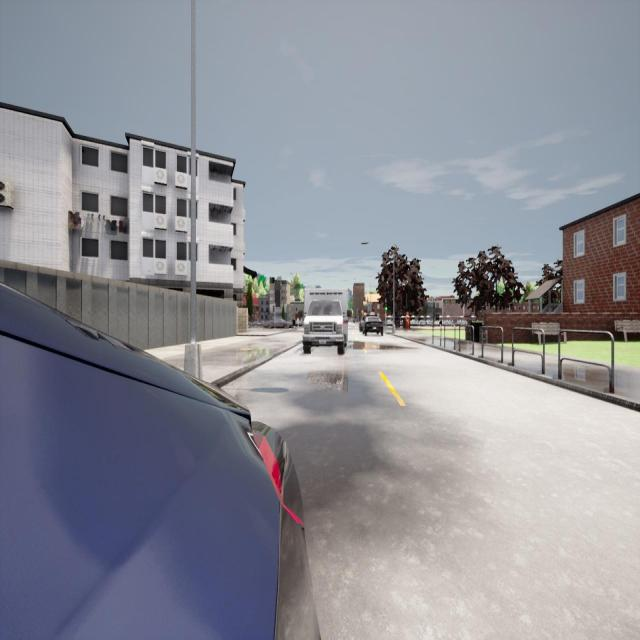Pedestrian: (404, 311, 411, 331)
Vehicle: (0, 283, 319, 638), (299, 289, 352, 355), (359, 316, 384, 336), (262, 318, 293, 330)
traffic_light: (384, 302, 388, 312), (272, 305, 275, 312)
